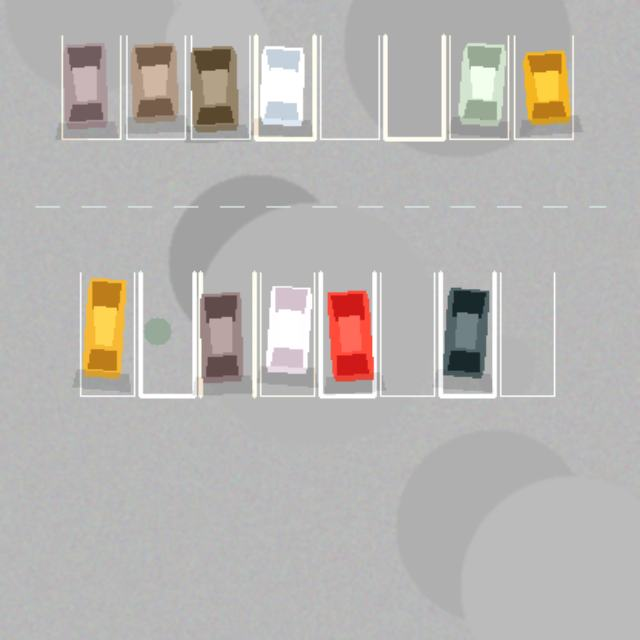space-empty: (140, 272, 194, 395), (380, 272, 434, 395), (500, 272, 554, 395), (320, 35, 378, 138), (385, 35, 443, 138)
space-occupied: (80, 272, 134, 395), (200, 272, 254, 395), (260, 272, 314, 395), (320, 272, 374, 395), (440, 272, 494, 395), (126, 35, 185, 138), (255, 35, 314, 138), (449, 35, 508, 138), (62, 35, 120, 138), (191, 35, 249, 138), (514, 35, 572, 138)
